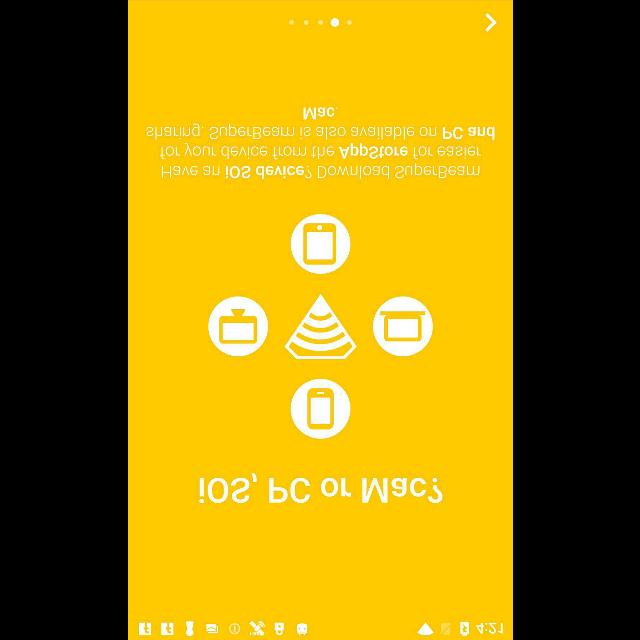icon: (484, 13, 496, 32)
image: (208, 214, 432, 438)
pageindicator: (288, 18, 352, 28)
text: (146, 106, 494, 180), (198, 472, 442, 502)
uppertaskbar: (128, 617, 512, 639)
